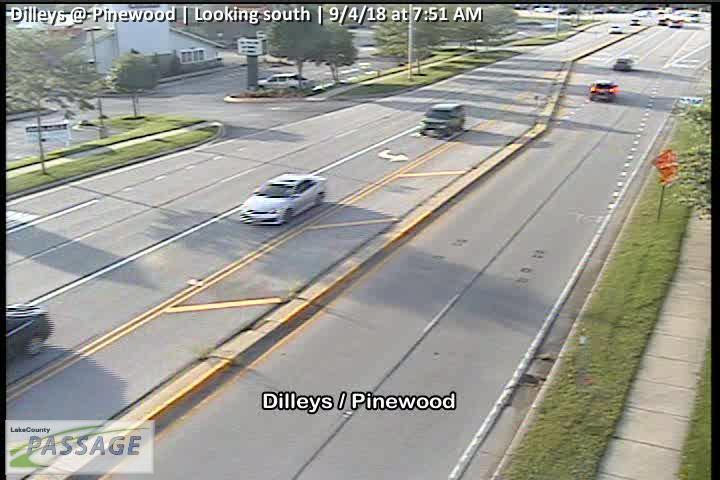SUV: (420, 100, 465, 139)
Sedan: (239, 173, 327, 225), (252, 71, 306, 95), (588, 78, 620, 99)
